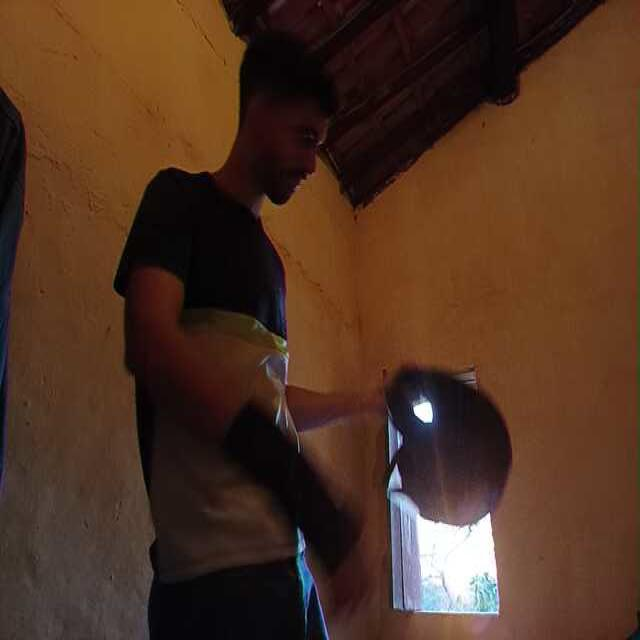capacete: (385, 354, 520, 533)
pessoa: (128, 44, 392, 640)
